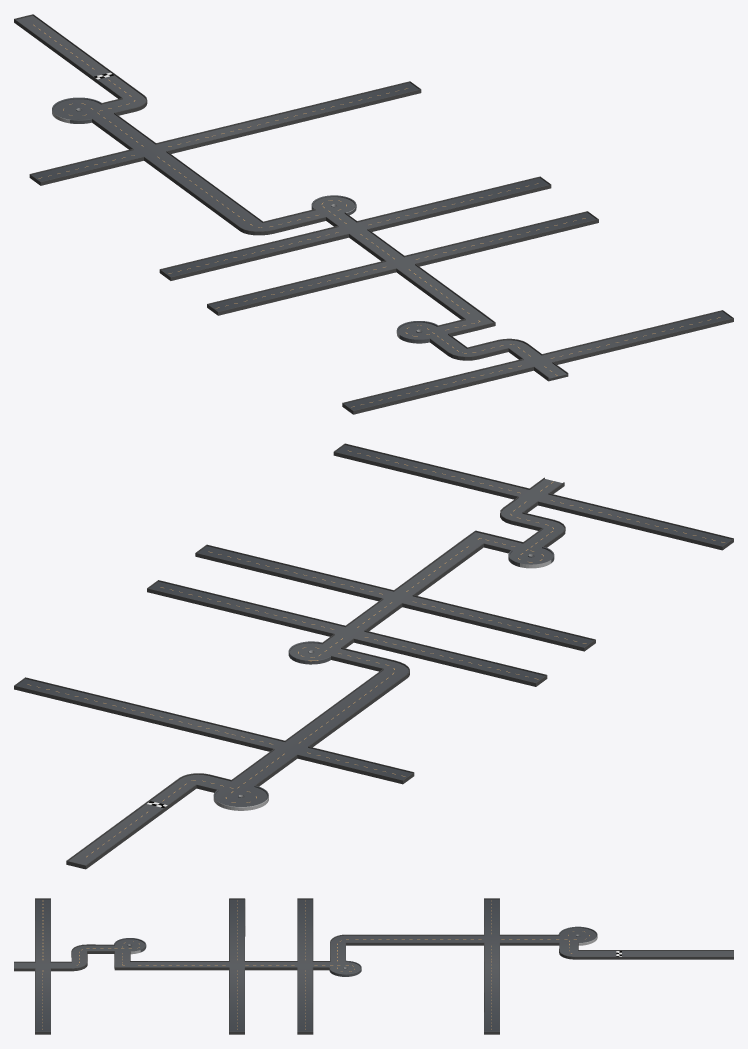
File: Level3Test.fbx
The picture shows the model from 3 angles, top to bottom: view 1: azimuth 30°, elevation 25°; view 2: azimuth 150°, elevation 25°; view 3: azimuth 270°, elevation 25°; orthographic projection. The views are drawn at different scales.
Visible parts, largest first — view 1: Plane.037; view 2: Plane.037; view 3: Plane.037.
Boxes of the visible parts, left/top/right/bottom form: Plane.037: left=14, top=14, right=733, bottom=414; Plane.037: left=14, top=443, right=733, bottom=869; Plane.037: left=14, top=898, right=733, bottom=1034.
Bounding box in the file's own units: 6284 × 60.82 × 14331.
